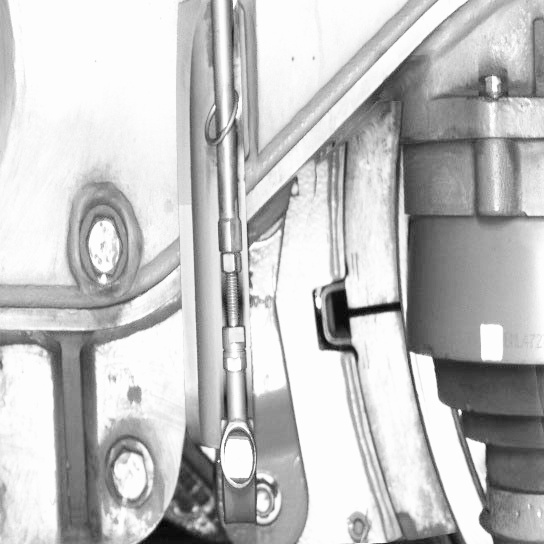ClosedKnifeSwitch: (347, 138, 472, 543)
